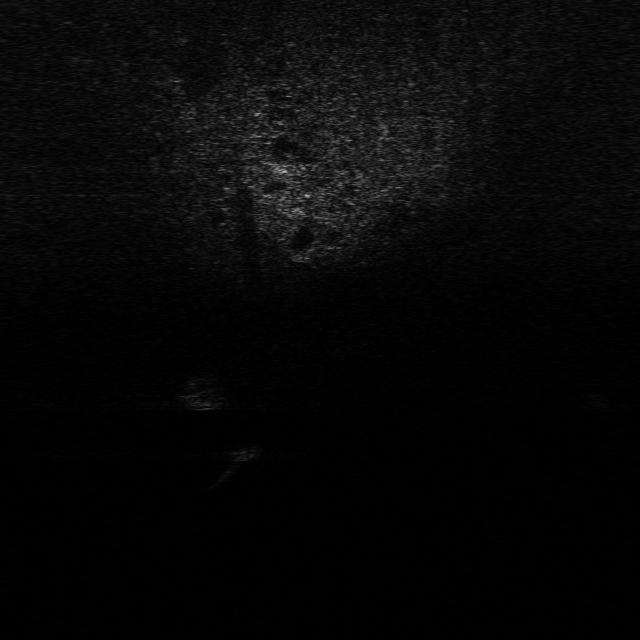circle cage: (174, 372, 234, 414)
cylinder: (221, 448, 257, 489)
